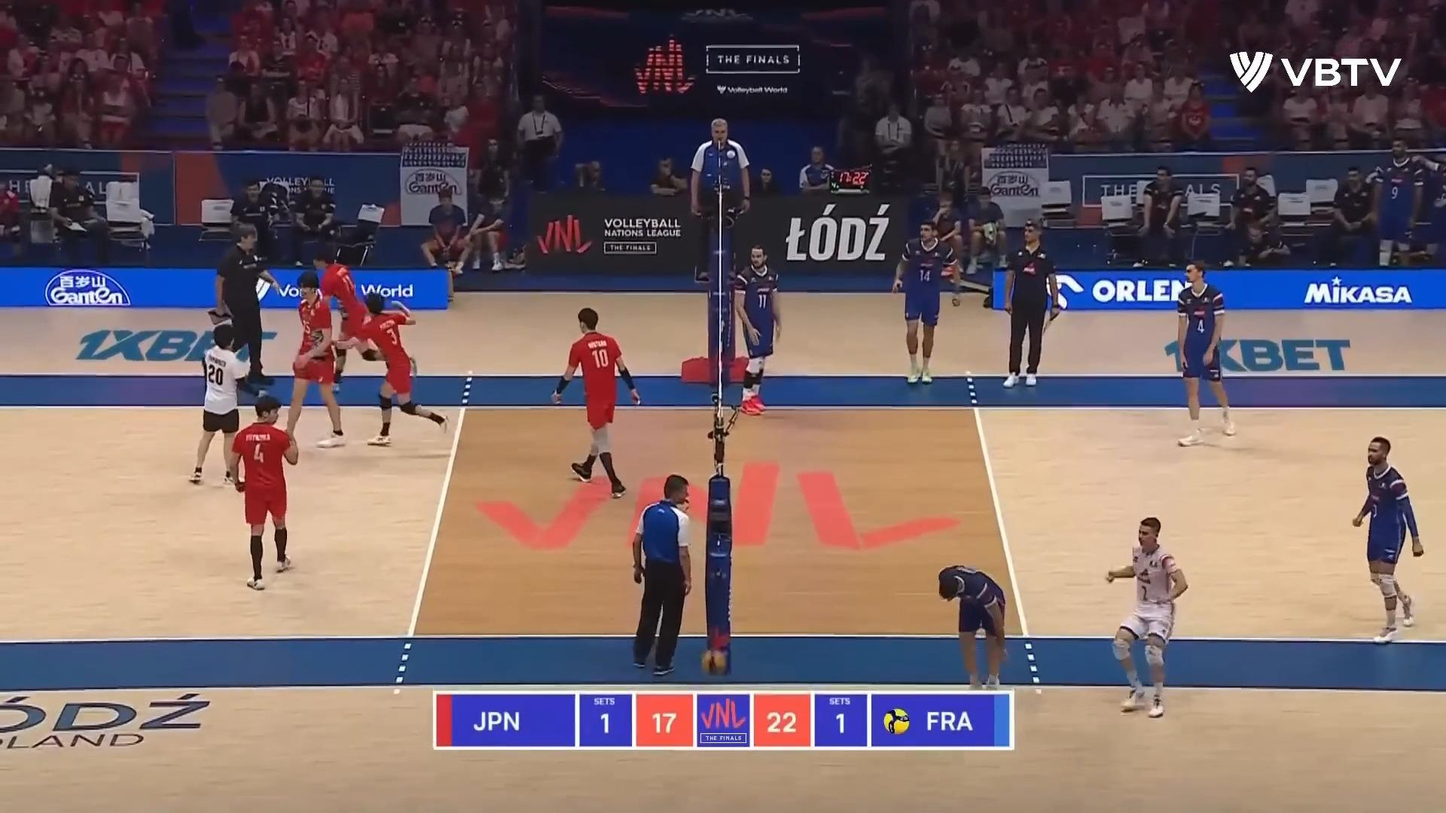ball: (701, 651, 728, 675)
